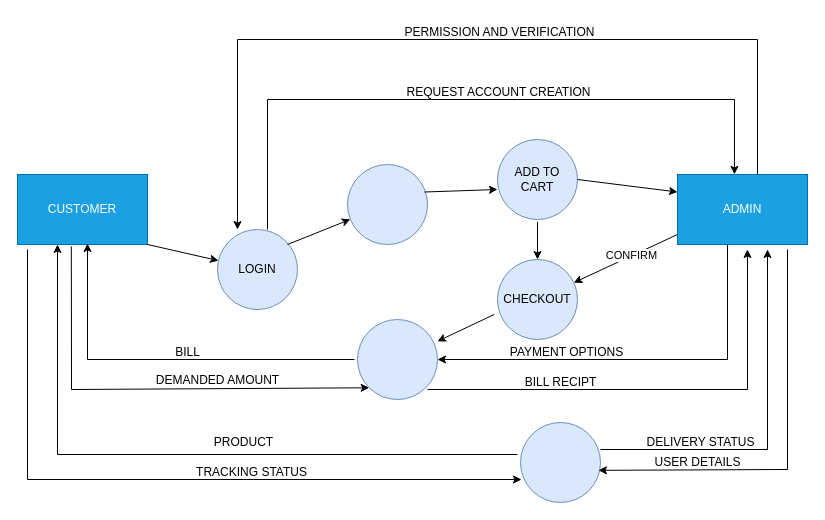
The diagram is 825 pixels wide and 520 high, and some of its shapes have lost their labels. Here are the shapes that lost their labels. From the top down, the box of each, then its label:
(346, 164, 428, 244): SELECTING RIGHT PRODUCT
(356, 318, 438, 400): PAYMENT
(520, 422, 600, 502): DELIVERY
